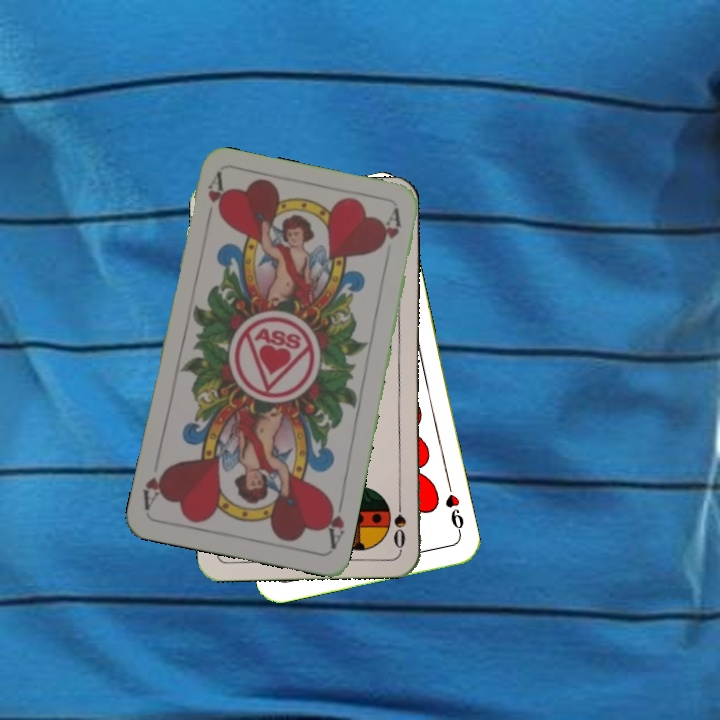H9: (441, 479, 467, 538)
HA: (320, 492, 347, 551), (201, 170, 227, 229)
SO: (390, 492, 408, 551)
